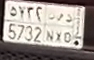2: (34, 5, 44, 43)
3: (25, 7, 35, 41)
5: (8, 6, 17, 40)
7: (17, 5, 27, 39)
D: (64, 13, 72, 43)
N: (45, 11, 56, 41)
X: (55, 12, 64, 41)
